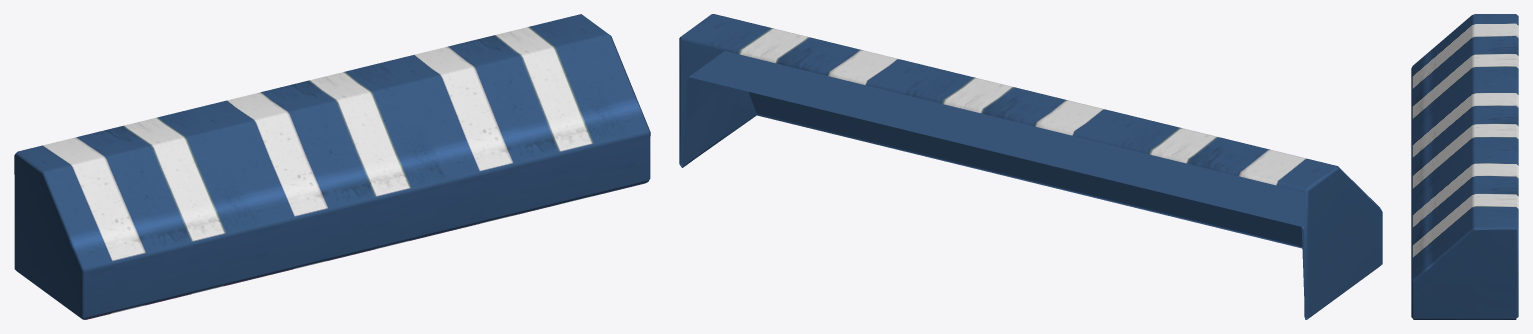
File: CommercialTent_09 (2).fbx
3 views of the same model, side by side, from view 1: azimuth 30°, elevation 25°; view 2: azimuth 150°, elevation 25°; view 3: azimuth 270°, elevation 25° (orthographic). The views are drawn at different scales.
Parts seen in each view (by area): view 1: CommercialTent_09__2_; view 2: CommercialTent_09__2_, _000_static_CommercialTent_09__2__1, _000_static_CommercialTent_09__2_; view 3: CommercialTent_09__2_, _000_static_CommercialTent_09__2_.
Part boxes in pixels (x1,y1,x2,y2): CommercialTent_09__2_: (14, 14, 650, 319); CommercialTent_09__2_: (679, 14, 1382, 319); _000_static_CommercialTent_09__2__1: (680, 40, 1302, 245); _000_static_CommercialTent_09__2_: (679, 52, 1337, 317); CommercialTent_09__2_: (1411, 14, 1518, 319); _000_static_CommercialTent_09__2_: (1474, 227, 1512, 230).
Size of the model in its own units: 543 by 110 by 115.
